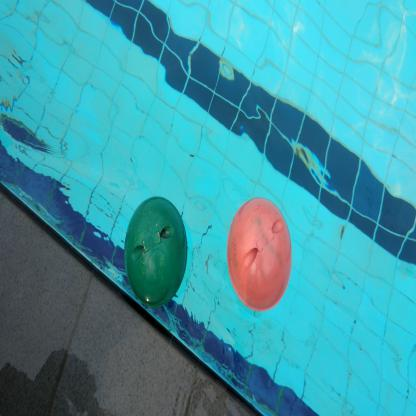green_buoy: (115, 188, 192, 314)
red_buoy: (224, 190, 296, 320)
